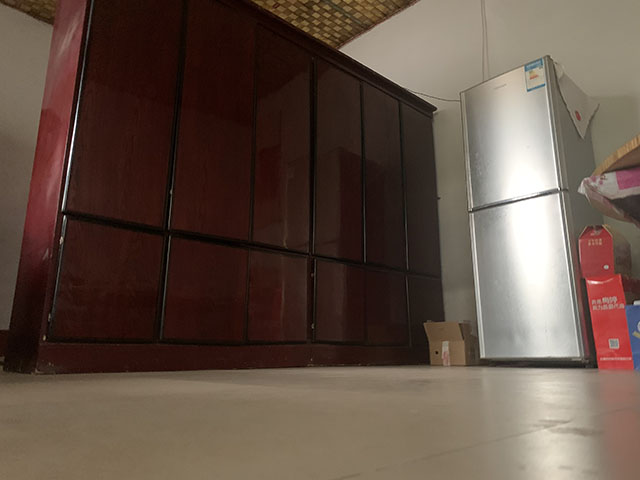cabinet: (1, 1, 447, 376)
